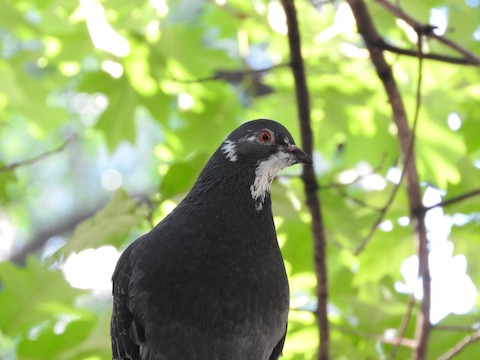pigeon: (95, 115, 315, 357)
